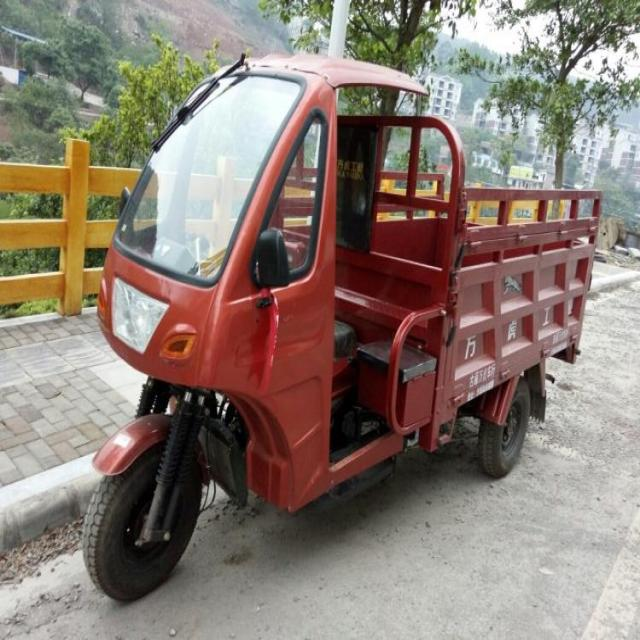tricycle: (76, 50, 602, 598)
